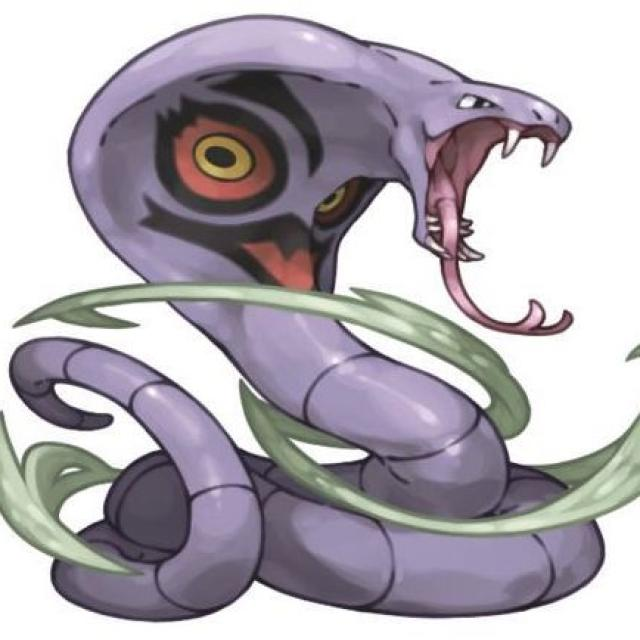Arbok: (68, 6, 582, 508)
